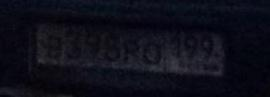license-plateSW: (34, 18, 227, 80)
